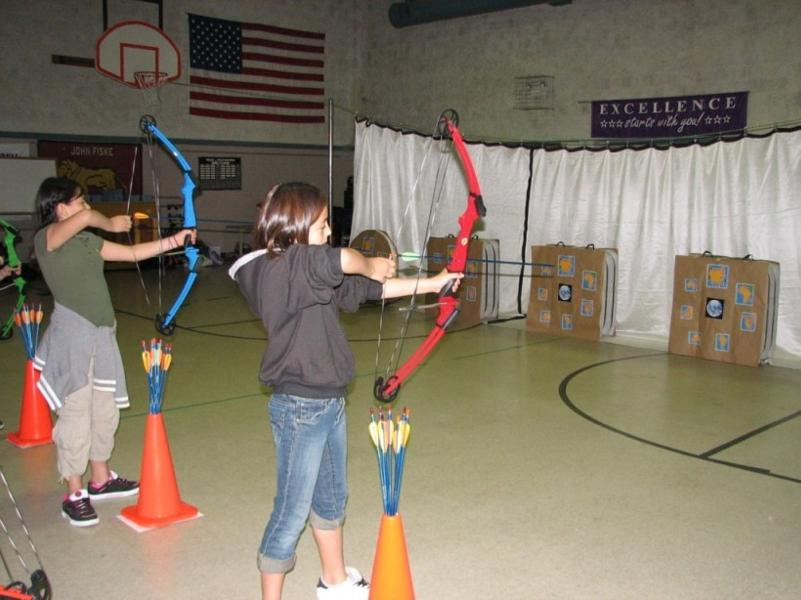person: (225, 186, 468, 600)
